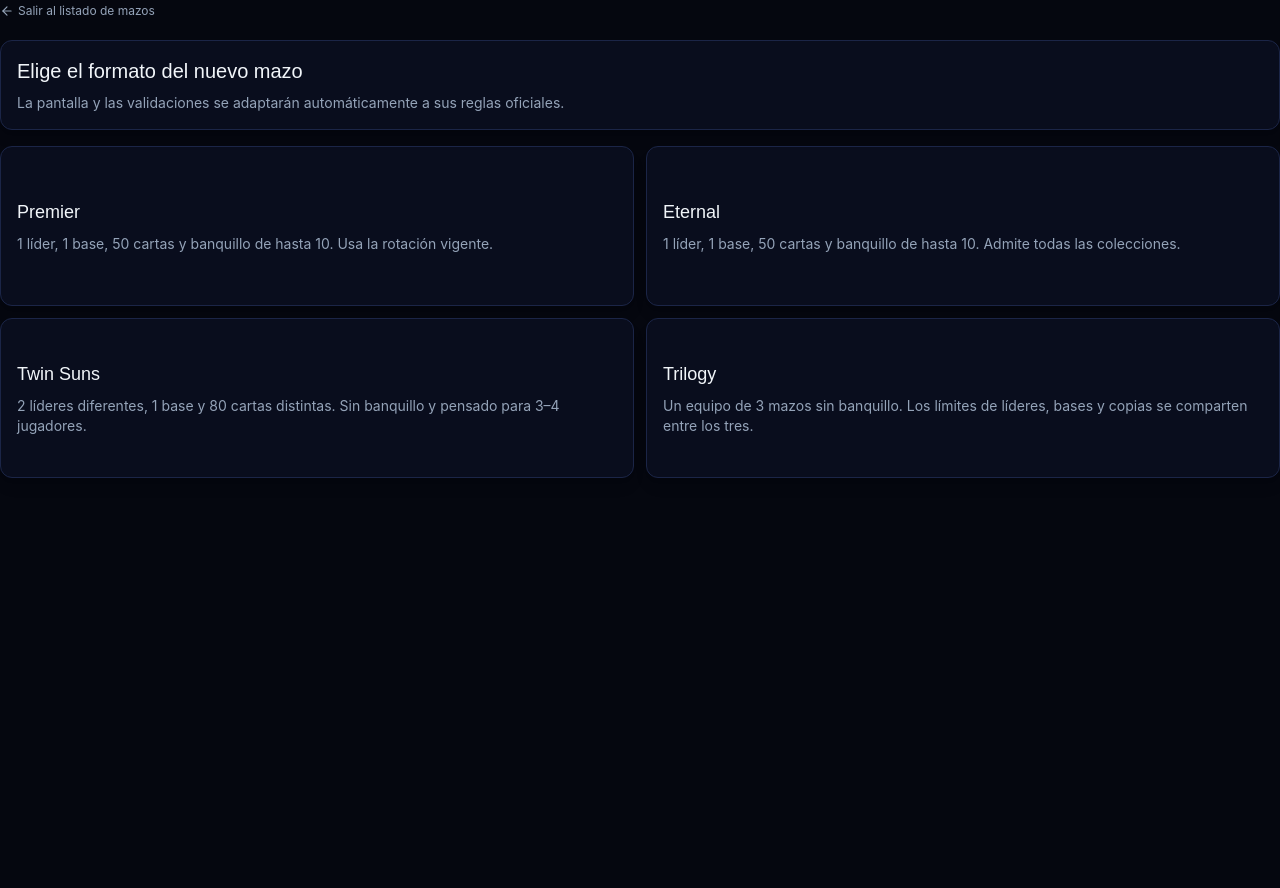
Test: constructor por formatos › pide el formato primero y adapta Twin Suns a dos líderes y 80 cartas
Expected: the heading "Elige el formato del nuevo mazo" is shown, [17, 60, 303, 82]
Expected: the button "Premier" is shown, [0, 146, 634, 306]
What coordinates should you click on to do the following:
click the button "Twin Suns"
I would click on:
 (317, 398)
Its box is [0, 318, 634, 478].
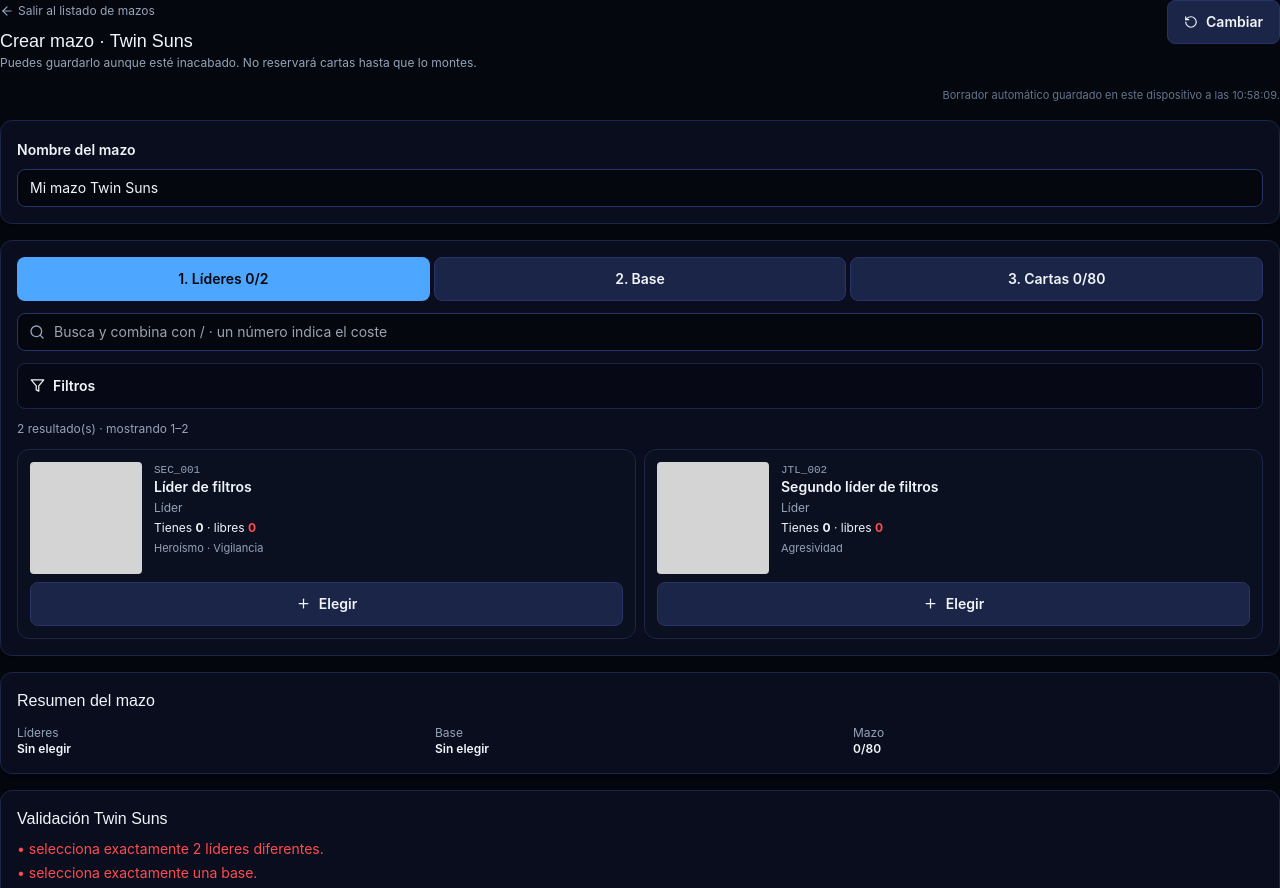
Expected: the heading "Crear mazo · Twin Suns" is shown, [0, 31, 193, 51]
Expected: the button "1. Líderes 0/2" is shown, [17, 256, 430, 300]
Expected: the button "3. Cartas 0/80" is shown, [850, 256, 1263, 300]
